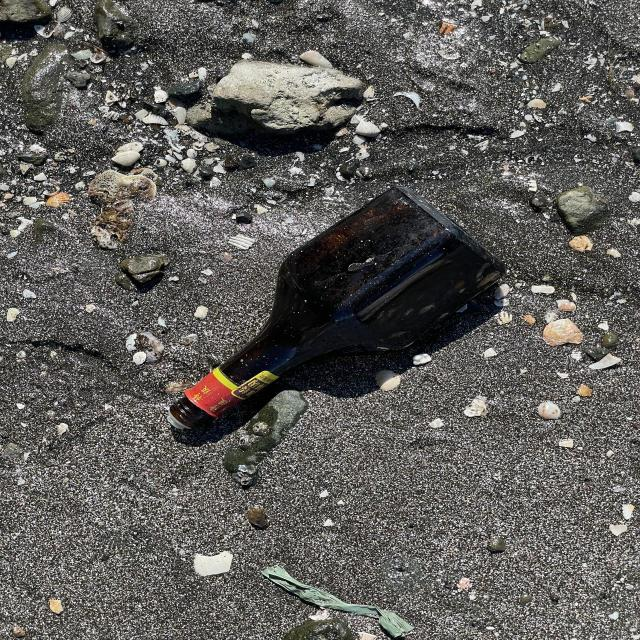glass_waste: (163, 184, 505, 438)
